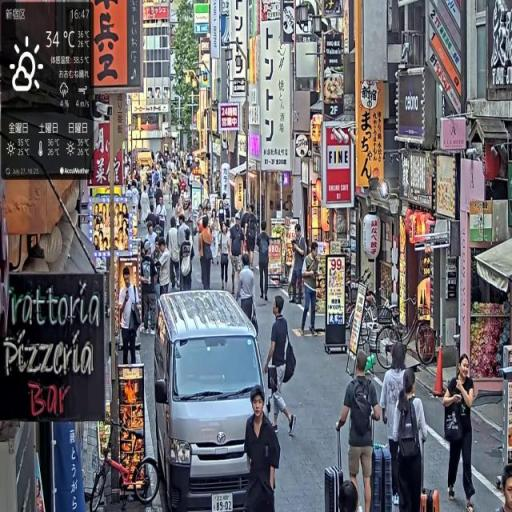person: (335, 349, 386, 512), (444, 355, 479, 511), (393, 369, 430, 512), (381, 341, 411, 512), (243, 386, 280, 512), (265, 296, 297, 433), (117, 266, 143, 371), (300, 240, 324, 337), (140, 241, 159, 336), (237, 253, 258, 335), (290, 221, 310, 306), (199, 215, 216, 292), (231, 217, 246, 304), (169, 216, 184, 293), (258, 223, 272, 304), (219, 221, 234, 295), (181, 227, 196, 293)
